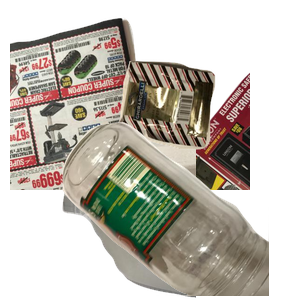glass: (60, 120, 300, 300)
paper: (10, 15, 250, 195)
plastic: (60, 120, 300, 300)
trash: (115, 58, 300, 200)
